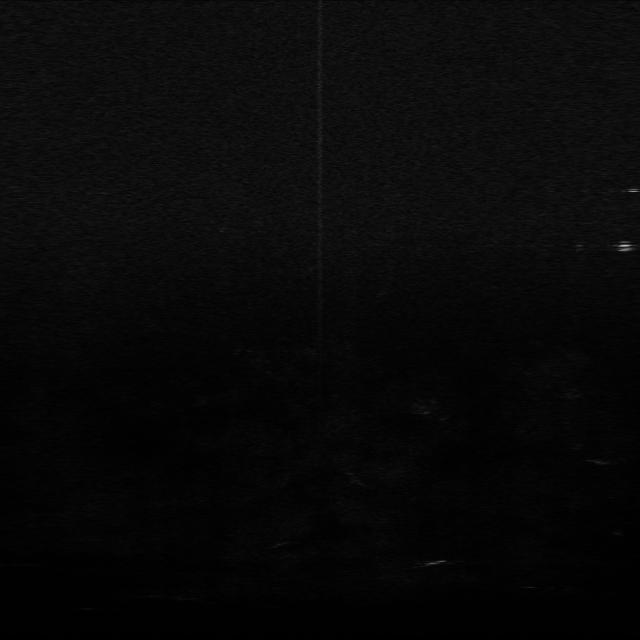rov: (614, 238, 636, 257)
